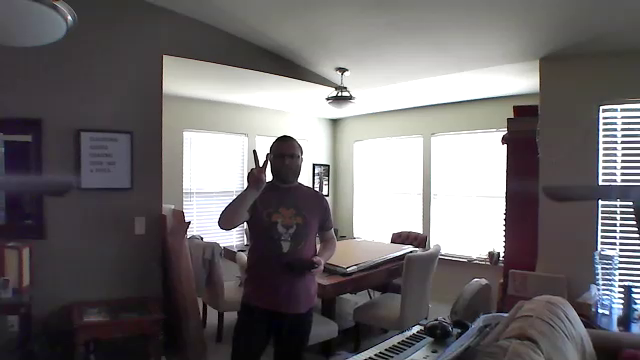peace: (241, 142, 278, 193)
